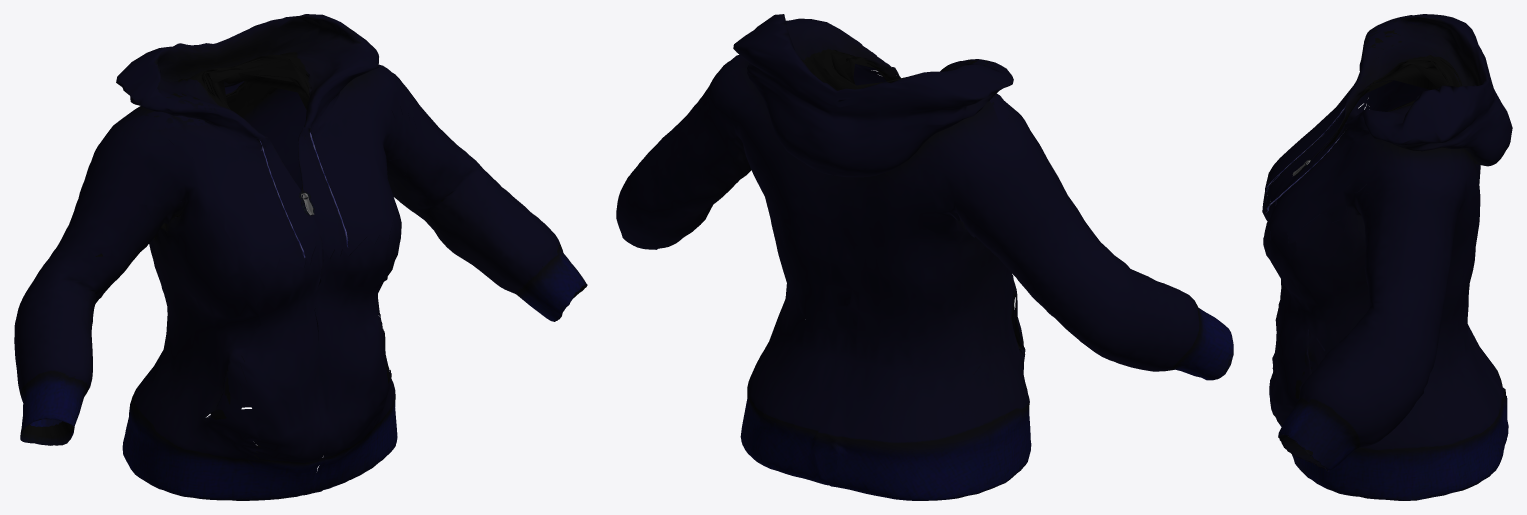
The model's file is ONFIT_HoodedJacket_Female_v5.glb.
3 views of the same model, side by side, from view 1: azimuth 30°, elevation 25°; view 2: azimuth 150°, elevation 25°; view 3: azimuth 270°, elevation 25° (orthographic). The views are drawn at different scales.
Parts seen in each view (by area): view 1: ONFIT_HoodedJacket; view 2: ONFIT_HoodedJacket; view 3: ONFIT_HoodedJacket.
Part boxes in pixels (left/top/right/bottom): ONFIT_HoodedJacket: left=14, top=14, right=587, bottom=500; ONFIT_HoodedJacket: left=616, top=14, right=1233, bottom=500; ONFIT_HoodedJacket: left=1262, top=14, right=1512, bottom=500.
Bounding box in the file's own units: 0.9036 × 0.6206 × 0.354.
1 material, 1 textured.
